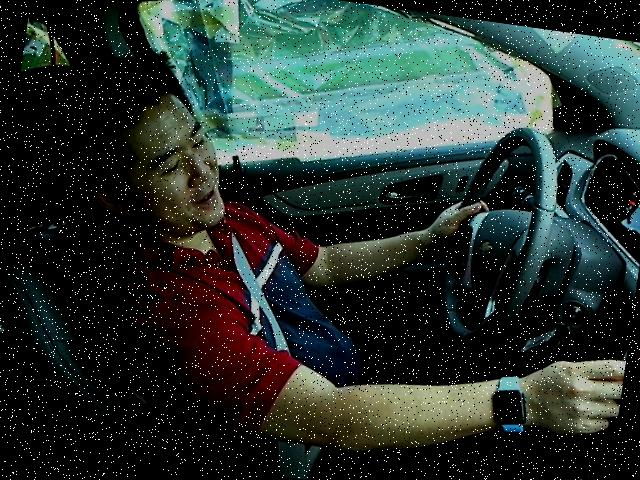c3 - Operating the Radio: (7, 34, 639, 479)
